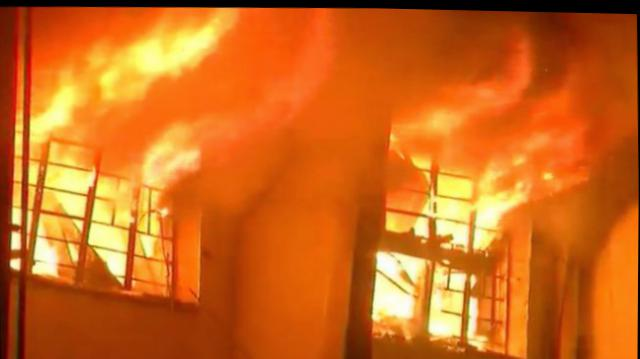fire: (93, 172, 169, 272), (438, 168, 527, 249), (32, 160, 90, 274), (414, 268, 485, 343), (115, 25, 217, 76), (374, 257, 419, 320), (28, 84, 79, 139)
smoke: (349, 6, 507, 77), (244, 12, 297, 177), (539, 9, 638, 89), (305, 82, 364, 198), (586, 82, 637, 153), (38, 7, 89, 53), (593, 155, 633, 211)
